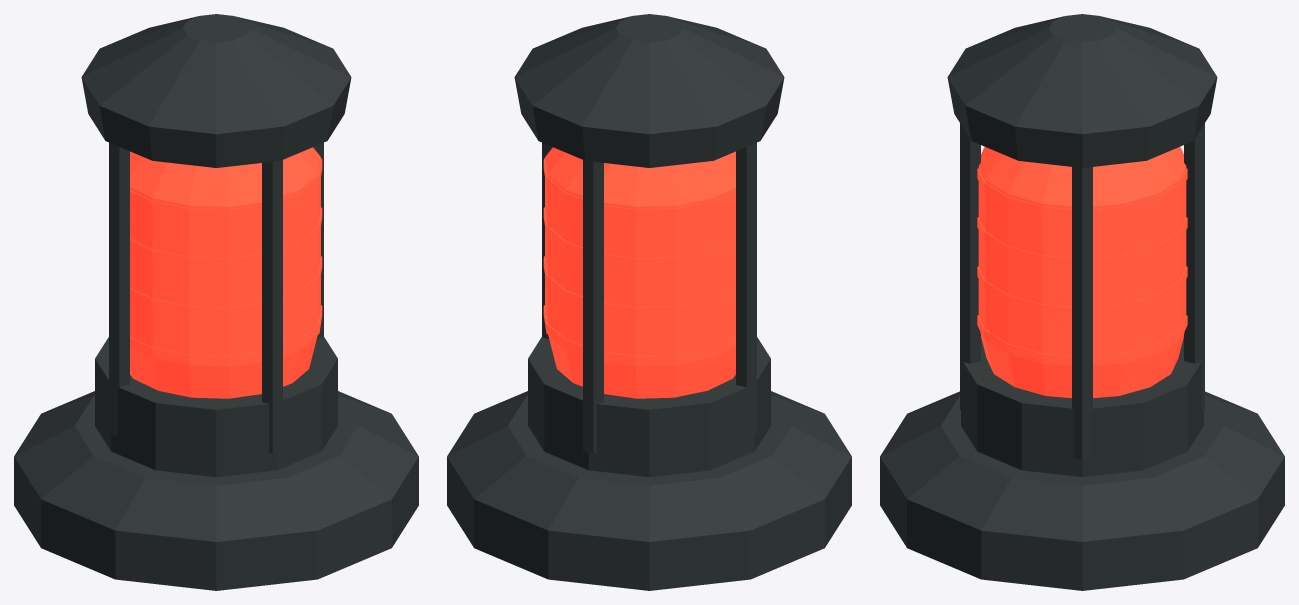
The model's file is beacon-DDf6R1Ad.glb.
3 views of the same model, side by side, from view 1: azimuth 30°, elevation 25°; view 2: azimuth 150°, elevation 25°; view 3: azimuth 270°, elevation 25° (orthographic).
Parts seen in each view (by area): view 1: salient_fixture_beacon; view 2: salient_fixture_beacon; view 3: salient_fixture_beacon.
Part boxes in pixels (x1=…): salient_fixture_beacon: x1=14, y1=14, x2=418, y2=590; salient_fixture_beacon: x1=447, y1=14, x2=851, y2=590; salient_fixture_beacon: x1=880, y1=14, x2=1284, y2=590.
Bounding box in the file's own units: 0.3 × 0.39 × 0.3.
